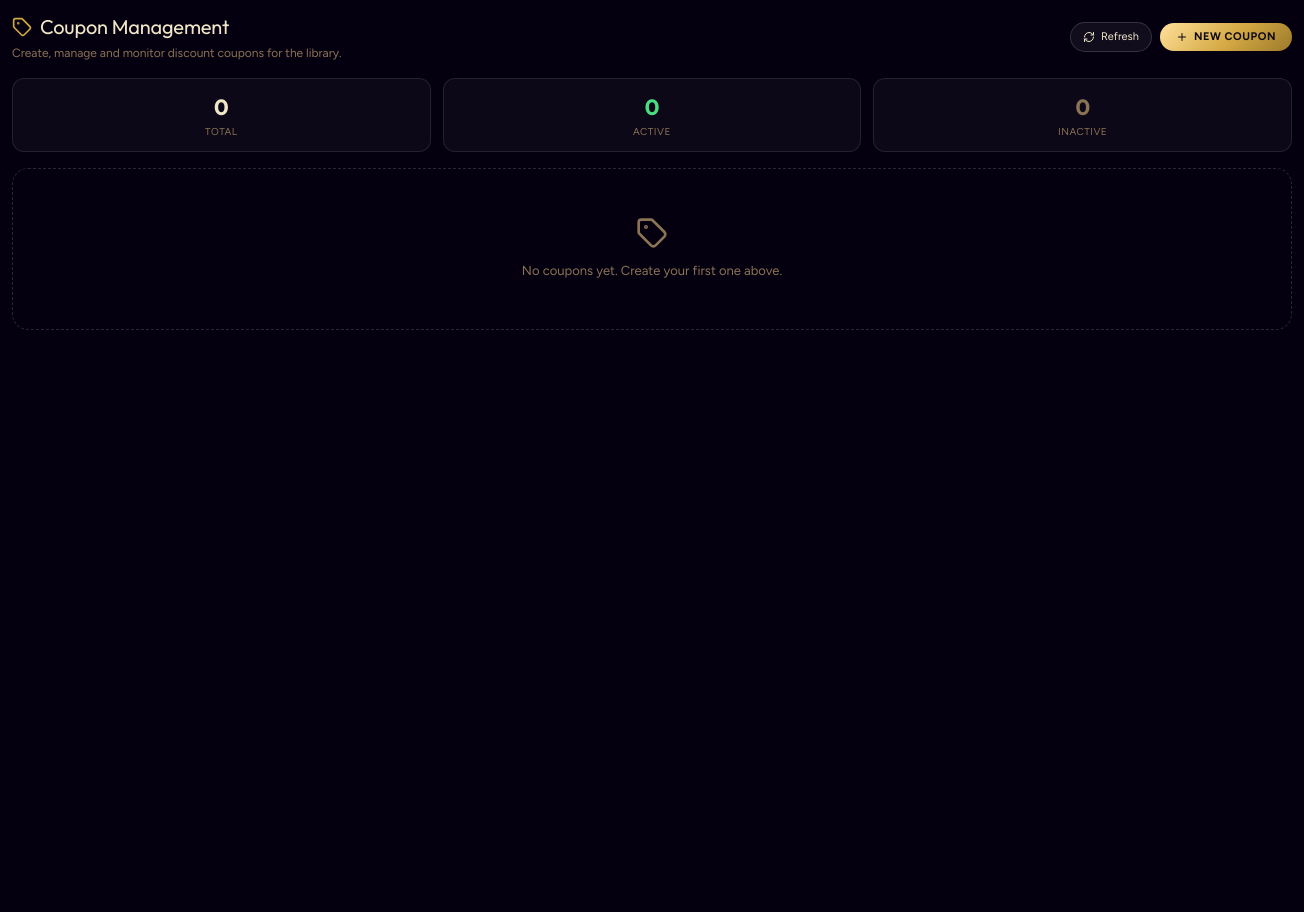
Video Library Voucher — form fields › switching to Video Library Voucher shows the points-amount field and preview
Click the button "New Coupon". click: (1226, 37)
box: [1160,23,1292,51]
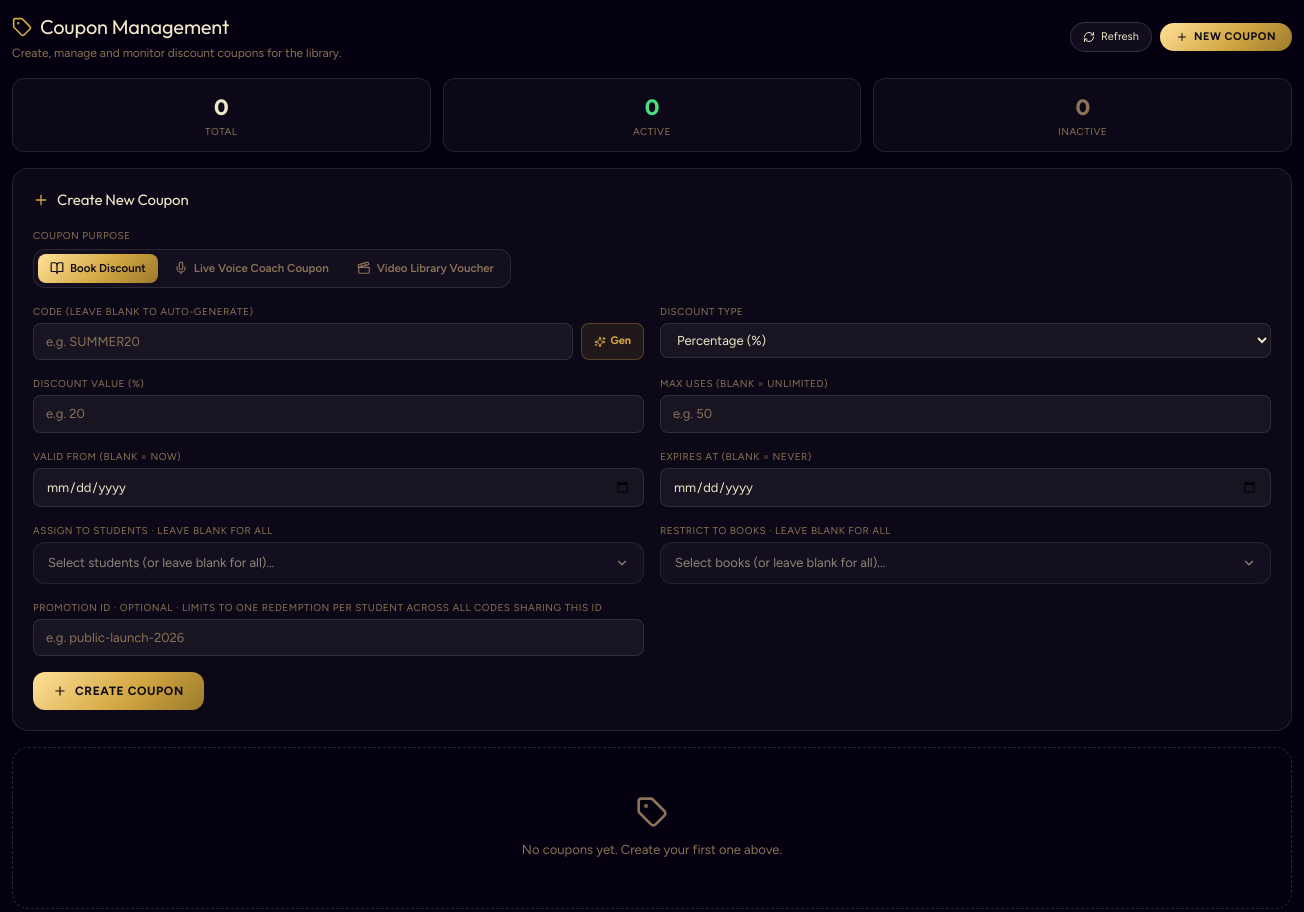
Click the button with test id "coupon-purpose-video_library_points". click: (425, 268)
box: [345,254,506,283]
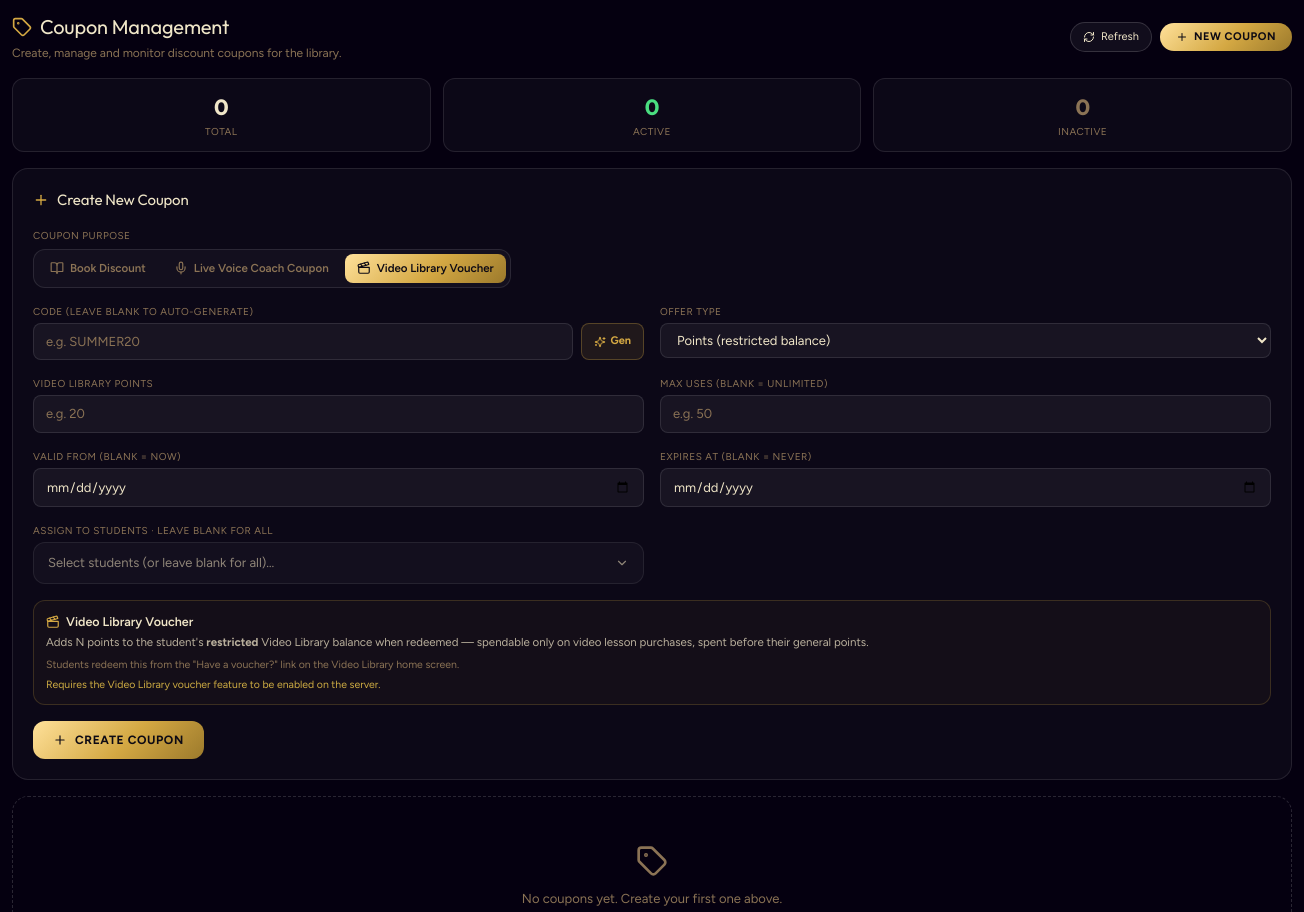
Expected: the number field with test id "coupon-video-library-amount" is shown, [33,395,644,433]
Result: the element with test id "coupon-video-library-preview" is shown at [33,600,1271,705]
